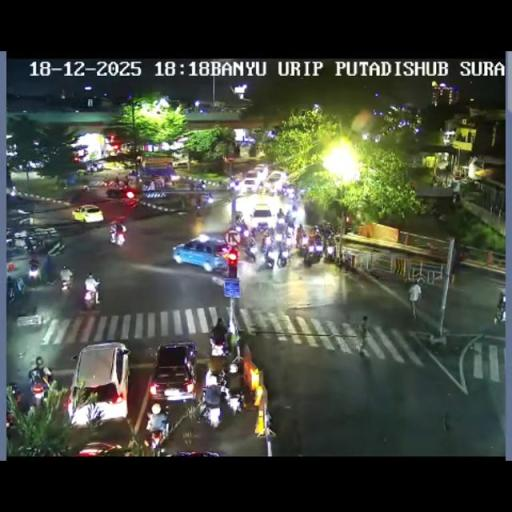Car: (68, 342, 130, 424), (148, 342, 198, 403), (171, 234, 234, 273), (5, 244, 32, 286), (74, 441, 124, 455), (72, 204, 103, 222), (251, 202, 273, 224), (264, 170, 286, 192), (106, 182, 136, 198), (239, 177, 259, 193), (86, 160, 104, 173), (254, 164, 268, 178)
Motorcycle: (28, 369, 51, 407), (5, 381, 23, 422), (146, 422, 167, 454), (198, 401, 222, 428), (82, 278, 101, 310), (208, 336, 230, 361), (226, 386, 244, 416), (314, 224, 338, 246), (302, 238, 320, 266), (259, 245, 275, 269), (108, 226, 126, 246), (492, 301, 506, 325), (242, 240, 257, 262), (252, 222, 270, 240), (46, 240, 65, 257), (59, 271, 73, 294), (27, 262, 41, 284), (204, 367, 218, 387), (218, 379, 230, 402), (276, 242, 287, 267), (234, 218, 249, 236), (6, 277, 16, 304), (15, 276, 25, 298), (324, 243, 336, 261), (186, 192, 196, 213), (25, 236, 37, 253), (284, 222, 295, 240), (178, 194, 187, 212), (276, 217, 286, 233), (295, 234, 305, 250), (284, 186, 295, 200), (290, 195, 299, 212), (204, 192, 214, 205), (228, 178, 238, 191), (194, 201, 202, 217), (257, 182, 267, 194), (452, 191, 460, 206), (234, 210, 244, 220), (298, 187, 306, 199), (124, 175, 131, 187), (164, 175, 171, 187), (82, 183, 90, 192), (100, 179, 109, 187), (277, 208, 284, 218), (200, 180, 206, 190), (10, 186, 16, 196), (190, 180, 194, 190)
